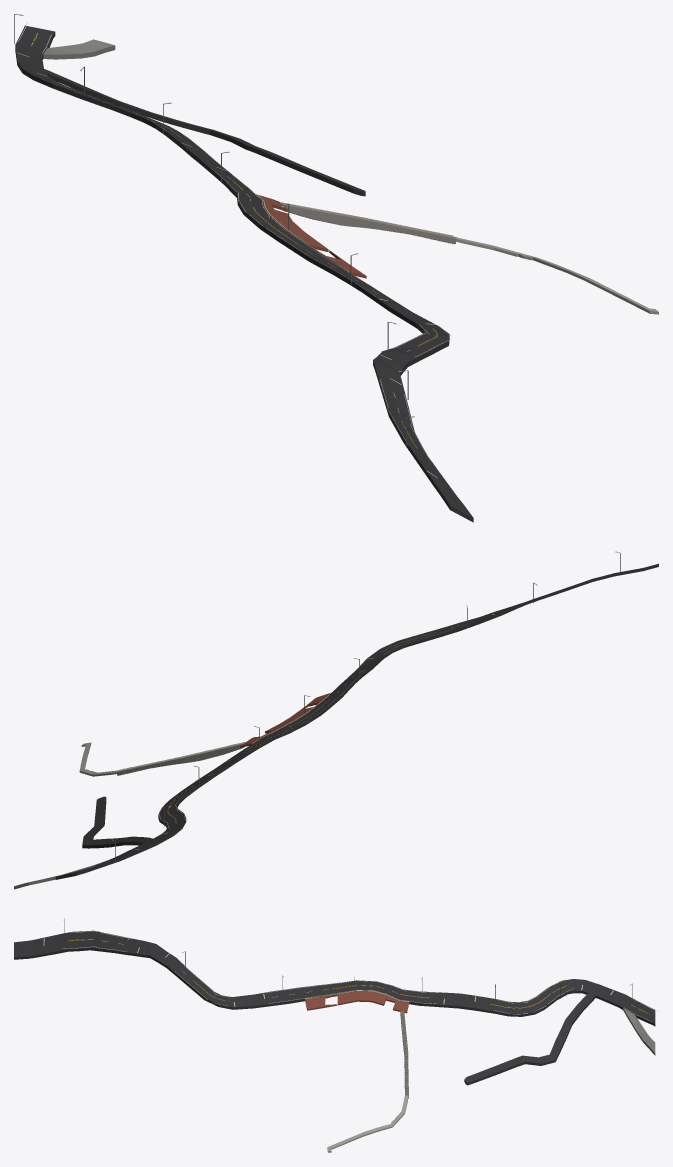
The picture shows the model from 3 angles, top to bottom: view 1: azimuth 30°, elevation 25°; view 2: azimuth 150°, elevation 25°; view 3: azimuth 270°, elevation 25°; orthographic projection. The views are drawn at different scales.
Size of the model in its own units: 138 by 53.99 by 293.
